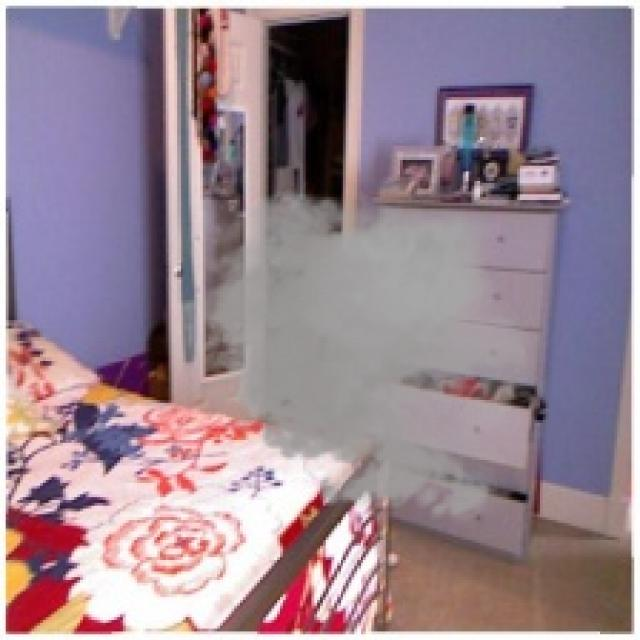smoke: (186, 180, 548, 529)
